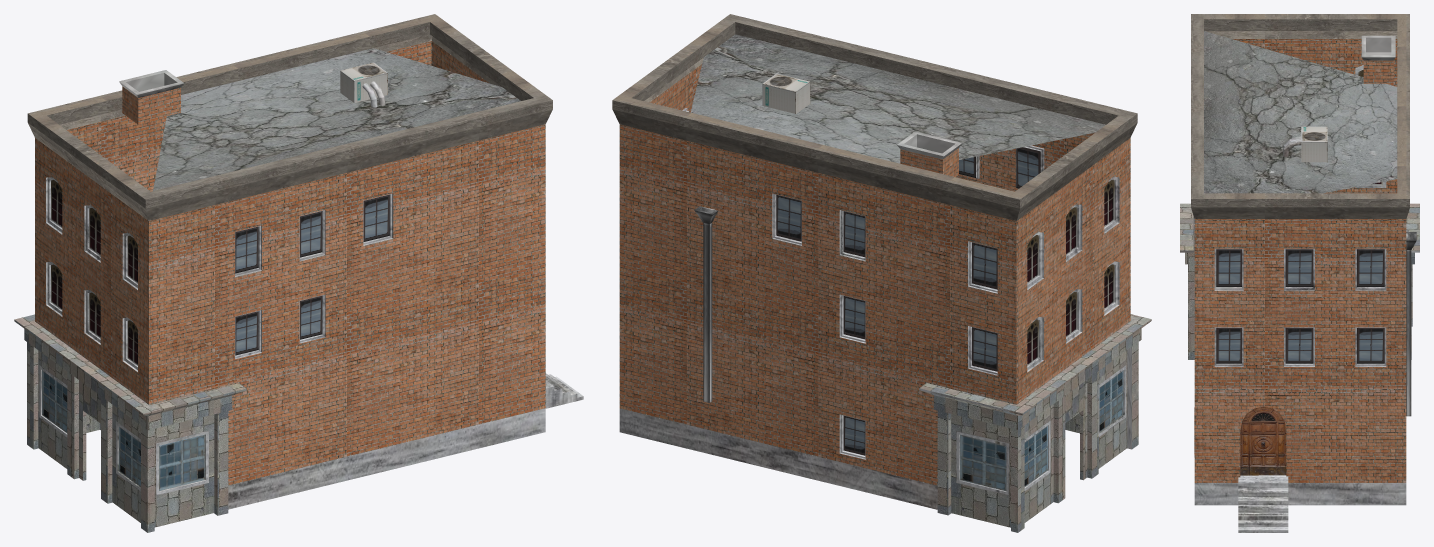
Rendered from building.glb.
3 renders of one model, left to right at view 1: azimuth 30°, elevation 25°; view 2: azimuth 150°, elevation 25°; view 3: azimuth 270°, elevation 25°, orthographic. The views are drawn at different scales.
Visible parts, largest first — view 1: Cube, Cube.001; view 2: Cube, Cube.001; view 3: Cube, Cube.001.
Part boxes in pixels (box(x1,y1,x2,y2)): Cube: box(14, 14, 583, 532); Cube.001: box(42, 180, 389, 491); Cube: box(612, 14, 1151, 532); Cube.001: box(689, 111, 1123, 491); Cube: box(1180, 14, 1419, 532); Cube.001: box(1216, 69, 1384, 363).
Bounding box in the file's own units: 7.65 × 5.42 × 3.62.
Materials: 11 (11 with a texture image).
